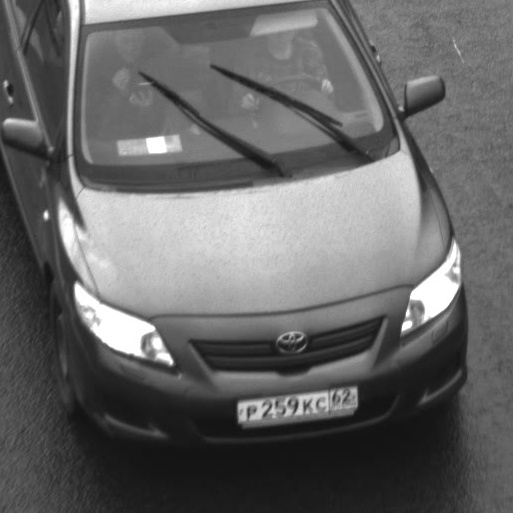plate: (225, 375, 367, 433)
